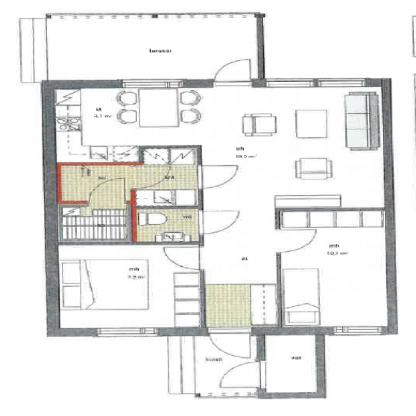door: (208, 327, 254, 363), (211, 59, 256, 89), (216, 362, 266, 388), (274, 230, 320, 255), (160, 246, 204, 272), (197, 209, 240, 235), (198, 164, 238, 190)
window: (116, 80, 182, 90), (95, 328, 161, 336), (318, 80, 363, 88), (332, 328, 381, 334), (267, 80, 312, 86)
zone: (53, 88, 384, 210), (46, 15, 261, 79), (278, 209, 388, 328), (56, 245, 202, 328), (61, 164, 198, 242), (201, 209, 281, 326), (170, 336, 261, 399), (262, 338, 318, 392), (134, 208, 197, 241)
